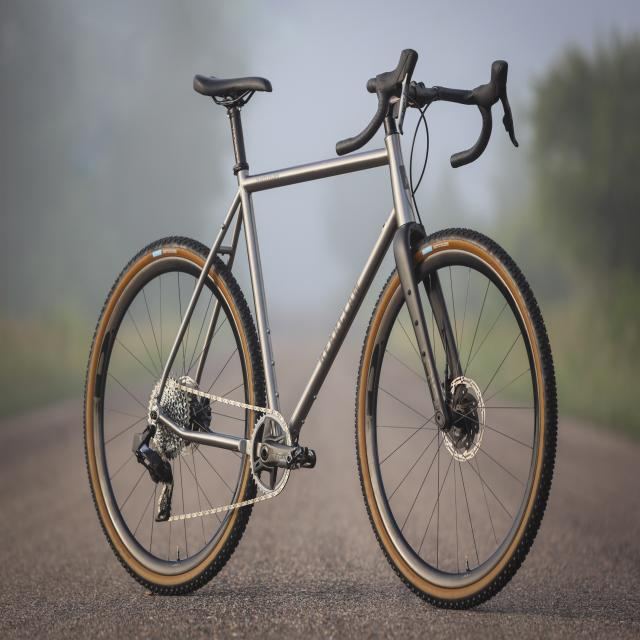bicycle: (79, 28, 558, 634)
